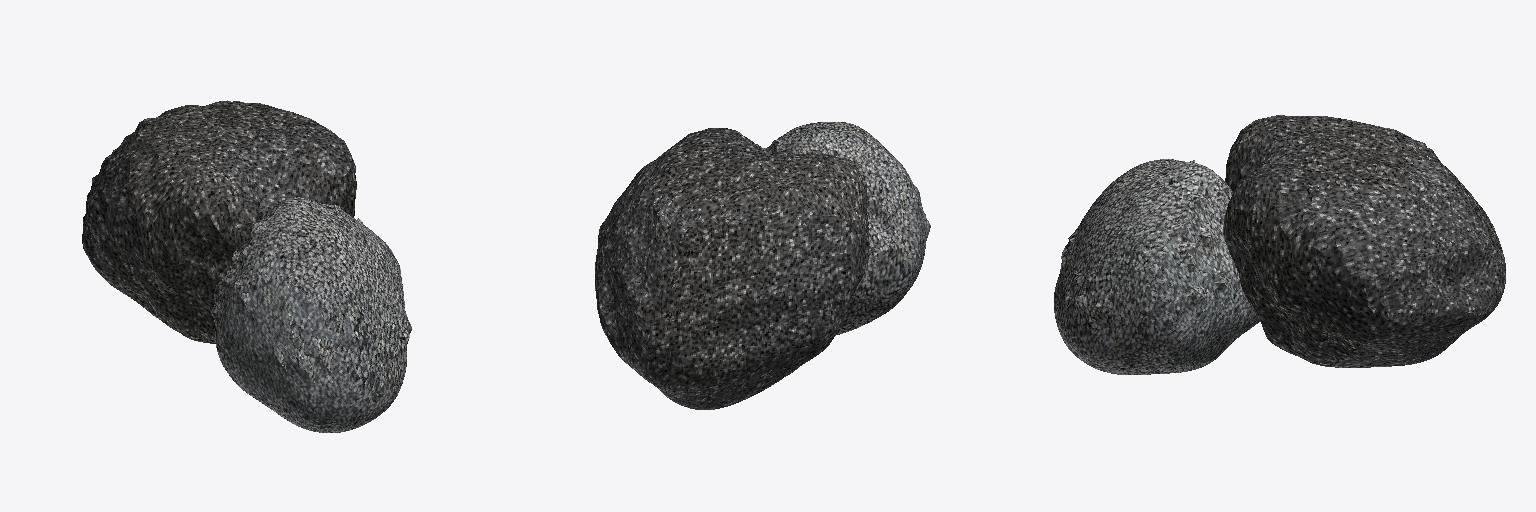
3 renders of one model, left to right at view 1: azimuth 30°, elevation 25°; view 2: azimuth 150°, elevation 25°; view 3: azimuth 270°, elevation 25°, orthographic.
Visible parts, largest first — view 1: Icosphere_Icosphere.002_Icosphere_Icosphere.003, Icosphere_Icosphere.001; view 2: Icosphere_Icosphere.002_Icosphere_Icosphere.003, Icosphere_Icosphere.001; view 3: Icosphere_Icosphere.002_Icosphere_Icosphere.003, Icosphere_Icosphere.001.
Part boxes in pixels (left/top/right/bottom): Icosphere_Icosphere.002_Icosphere_Icosphere.003: left=82, top=100, right=356, bottom=343; Icosphere_Icosphere.001: left=211, top=197, right=411, bottom=432; Icosphere_Icosphere.002_Icosphere_Icosphere.003: left=595, top=128, right=868, bottom=409; Icosphere_Icosphere.001: left=764, top=122, right=930, bottom=334; Icosphere_Icosphere.002_Icosphere_Icosphere.003: left=1223, top=115, right=1505, bottom=367; Icosphere_Icosphere.001: left=1054, top=159, right=1259, bottom=374.
Bounding box in the file's own units: 0.5173 × 0.4652 × 0.8413.
2 materials, 2 textured.